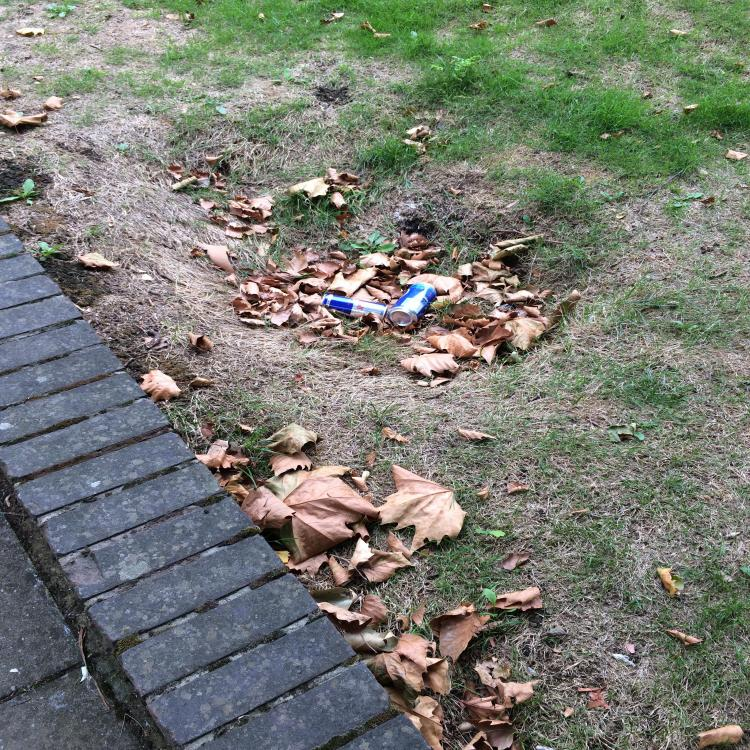Drink can: (387, 282, 437, 326), (321, 294, 388, 322)
